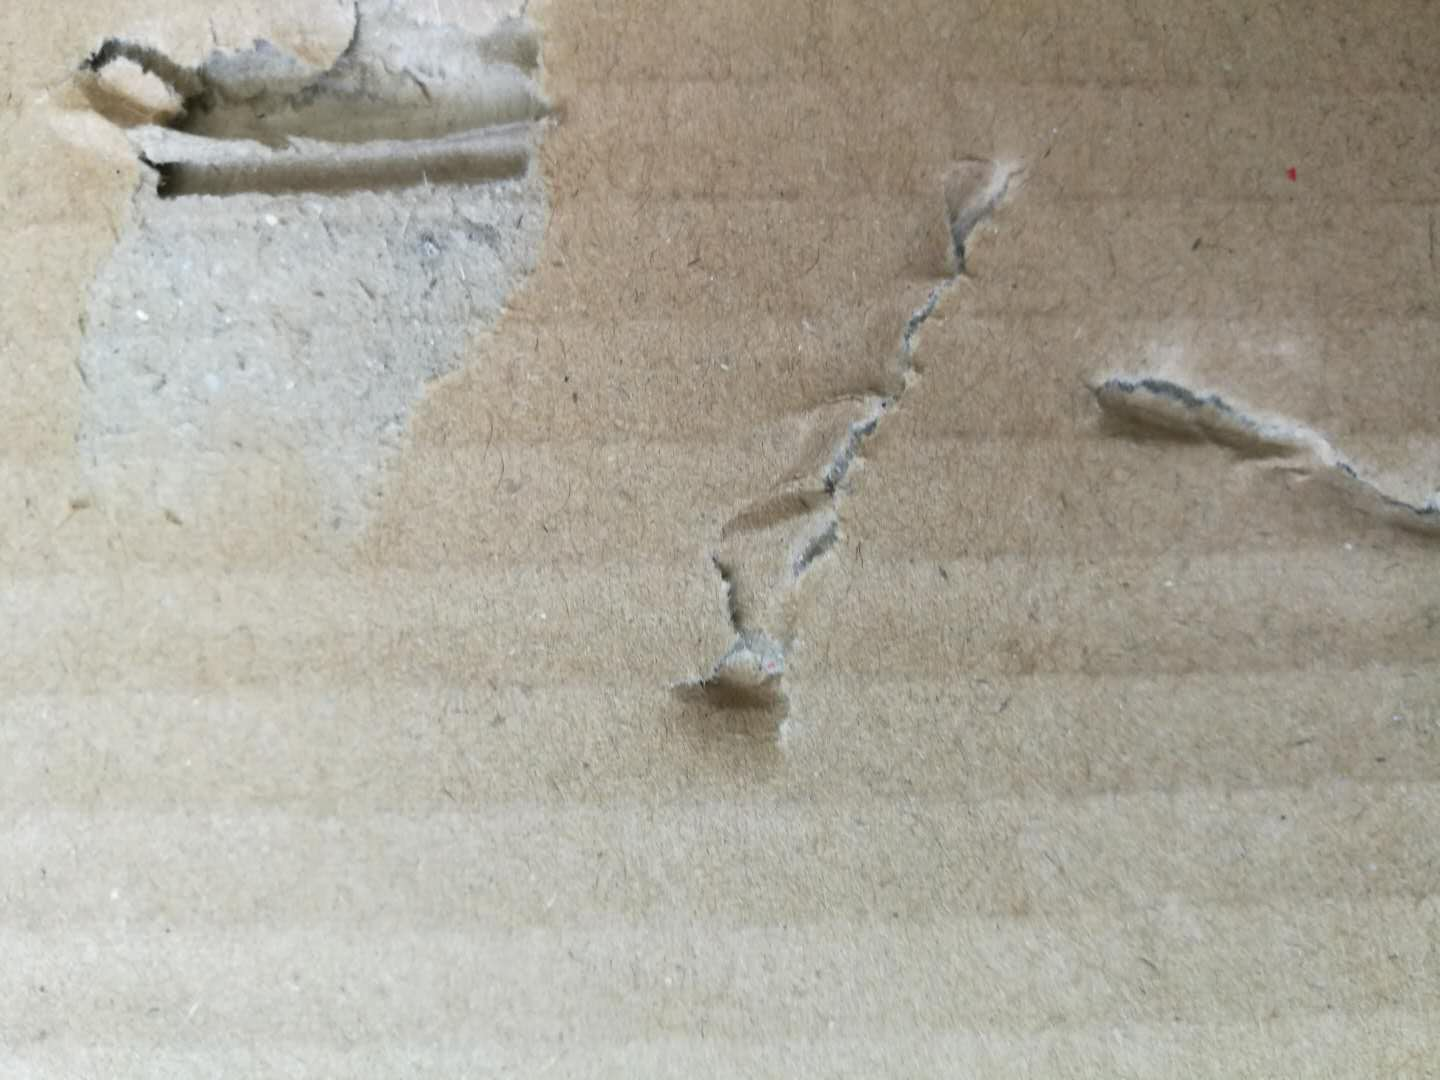defect: (5, 2, 611, 592), (625, 123, 1089, 818), (1067, 305, 1440, 600)
